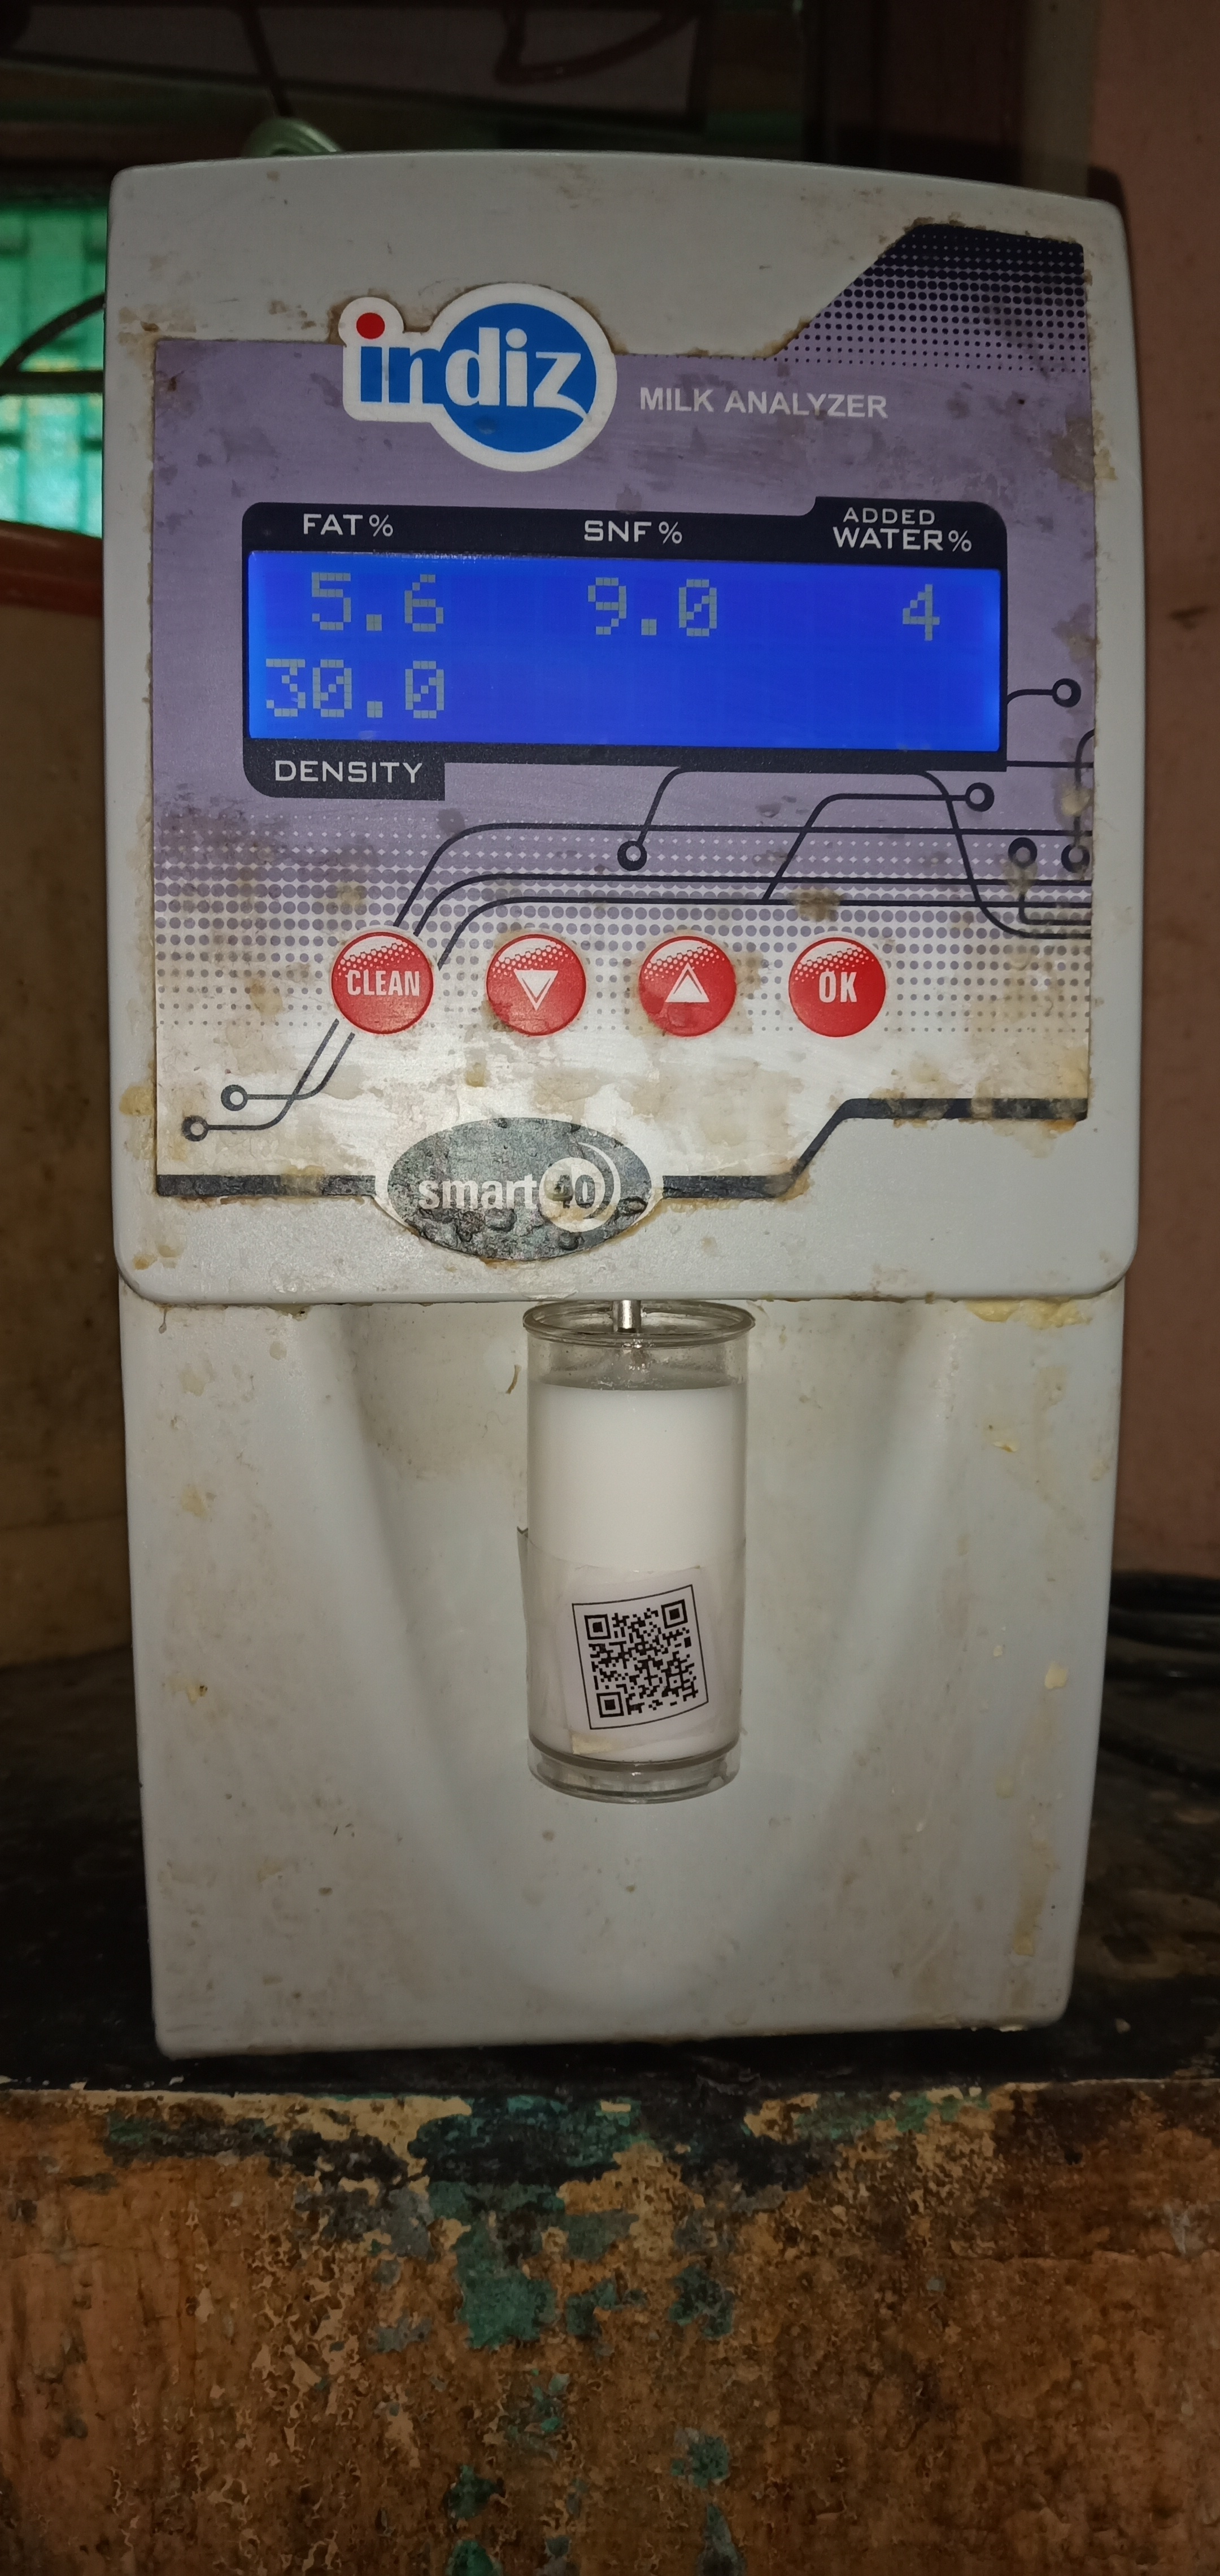lcd: (217, 481, 1048, 836)
qr: (543, 1571, 724, 1768)
